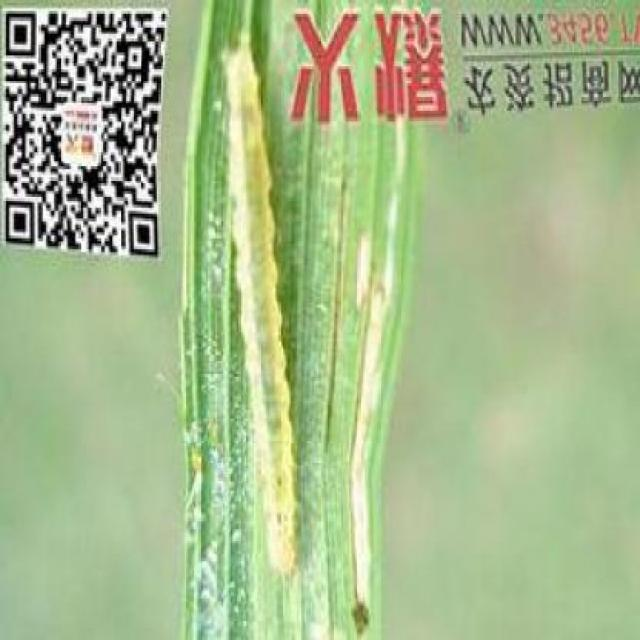leaf-folder: (206, 43, 294, 580)
